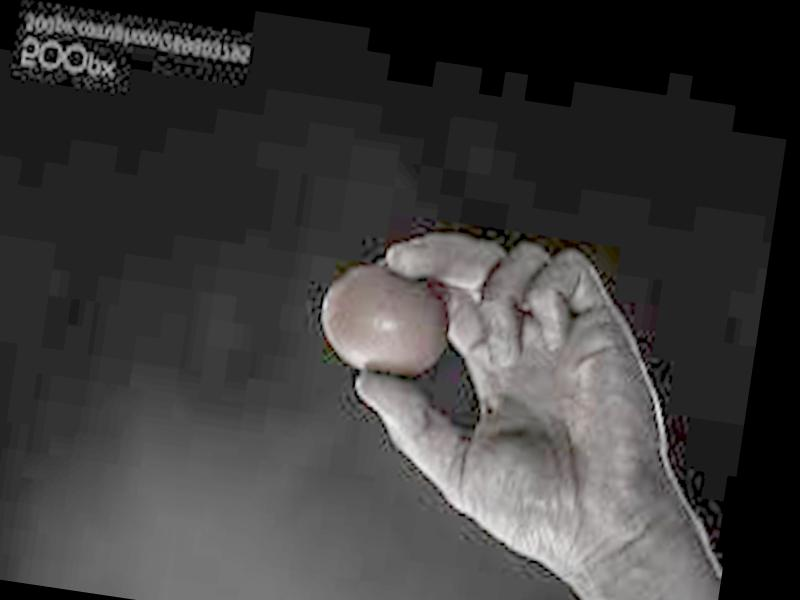Eggs: (314, 260, 460, 386)
